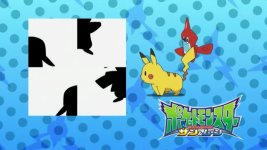pikachu: (138, 43, 198, 98)
